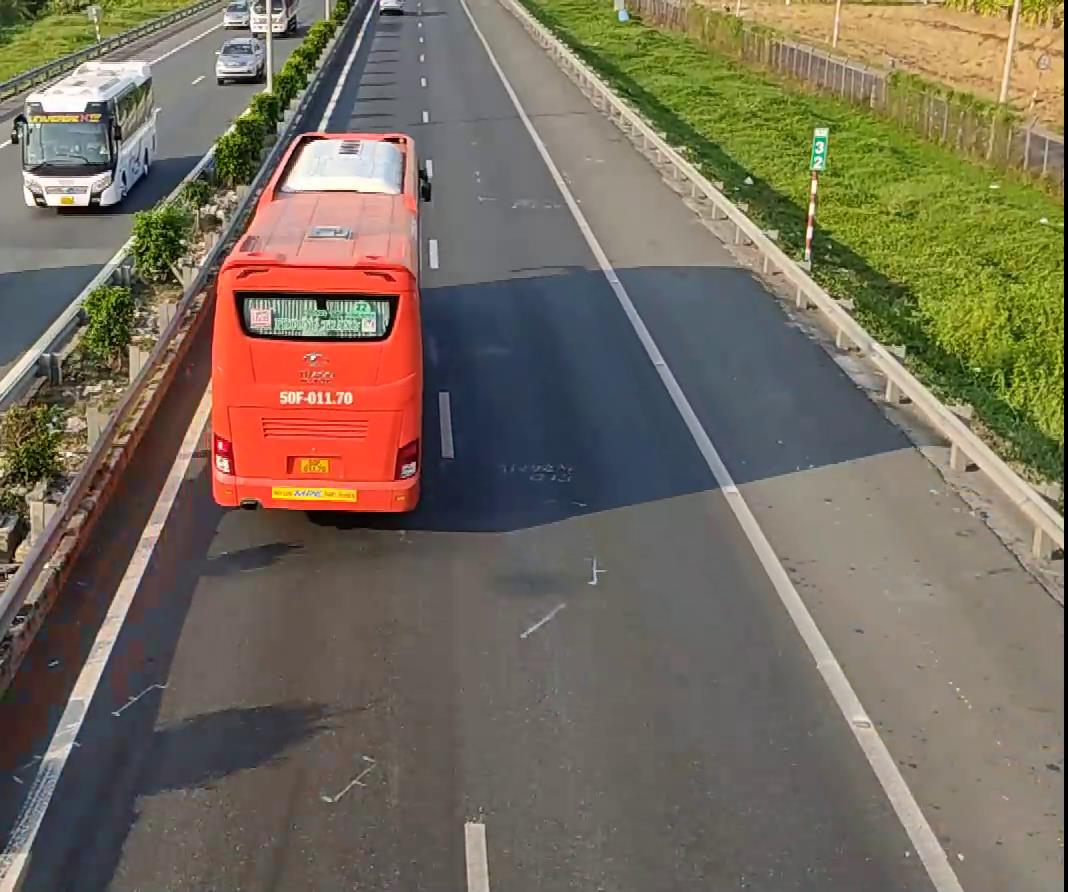bus: (204, 128, 428, 514), (16, 57, 157, 210)
